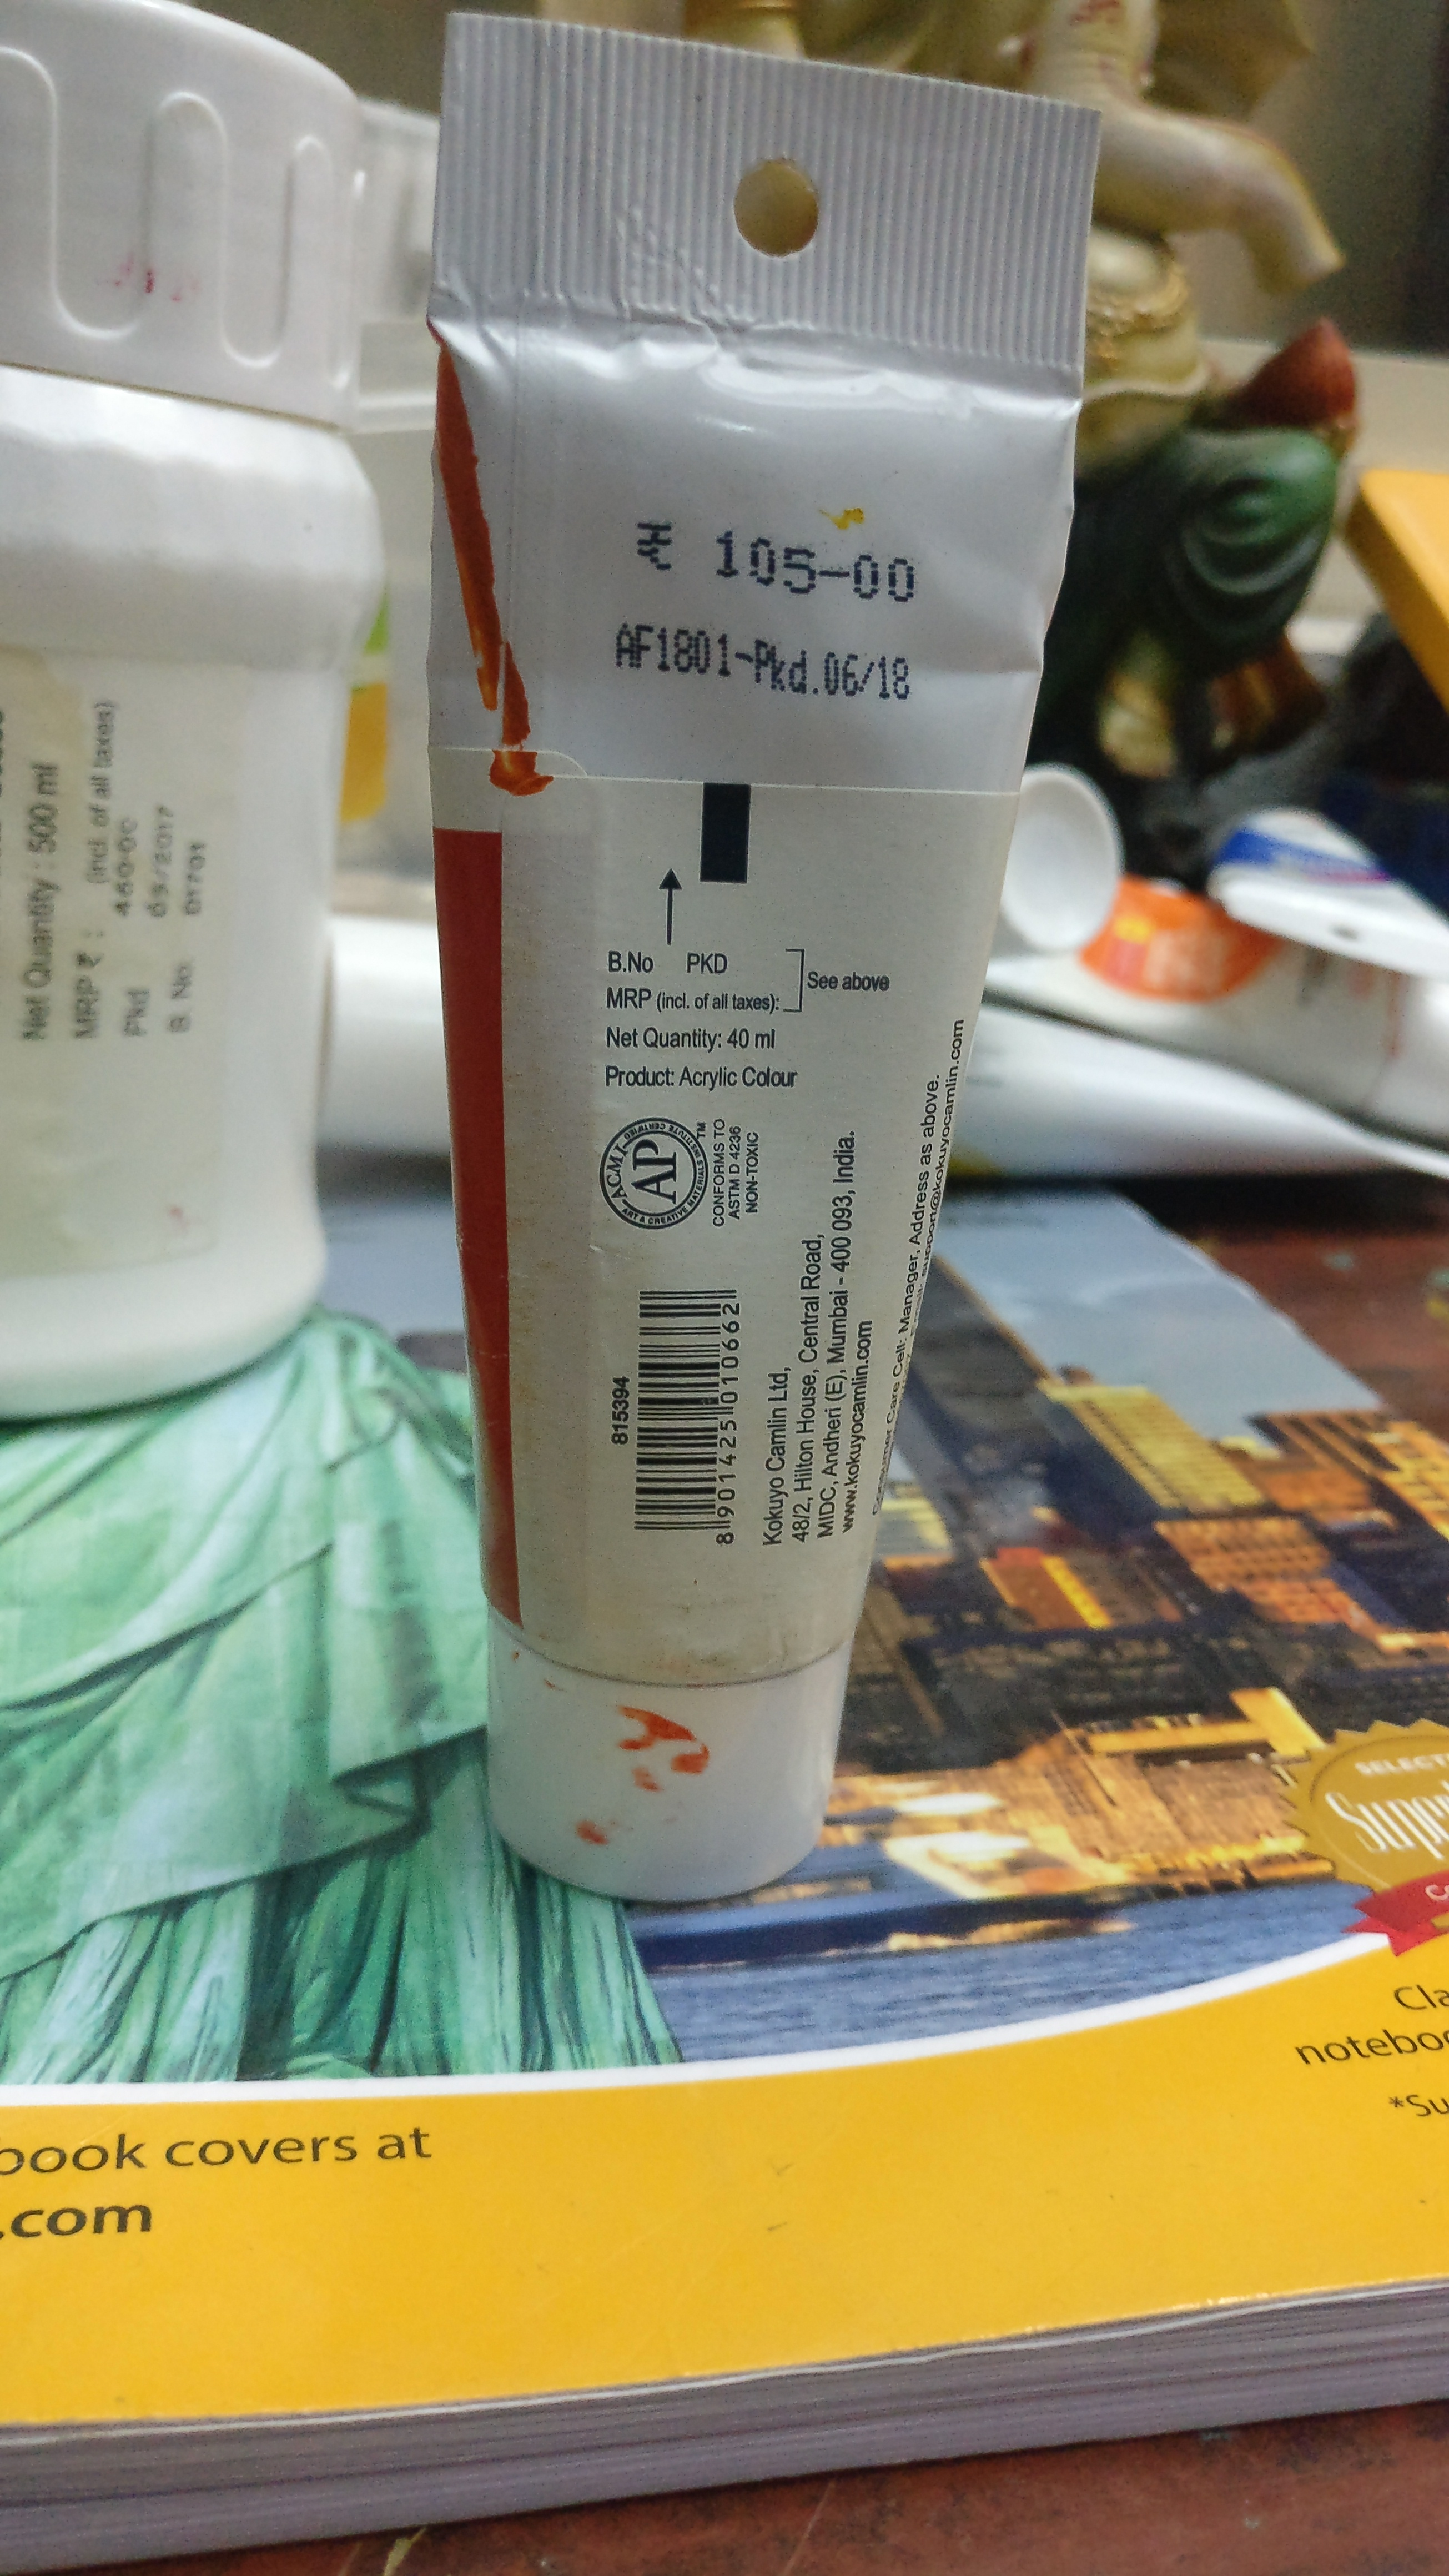barcode: (594, 1279, 750, 1566)
